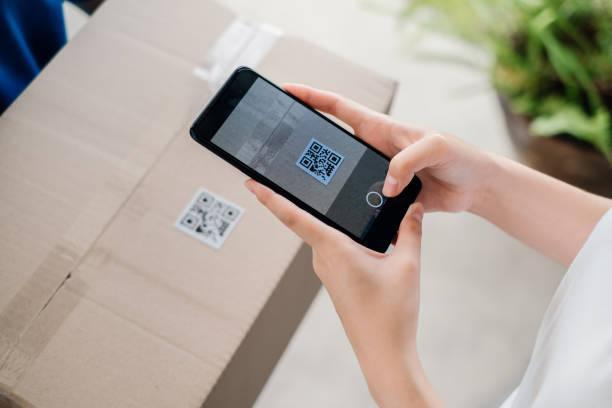qr_code: (180, 192, 240, 244), (299, 141, 341, 182)
